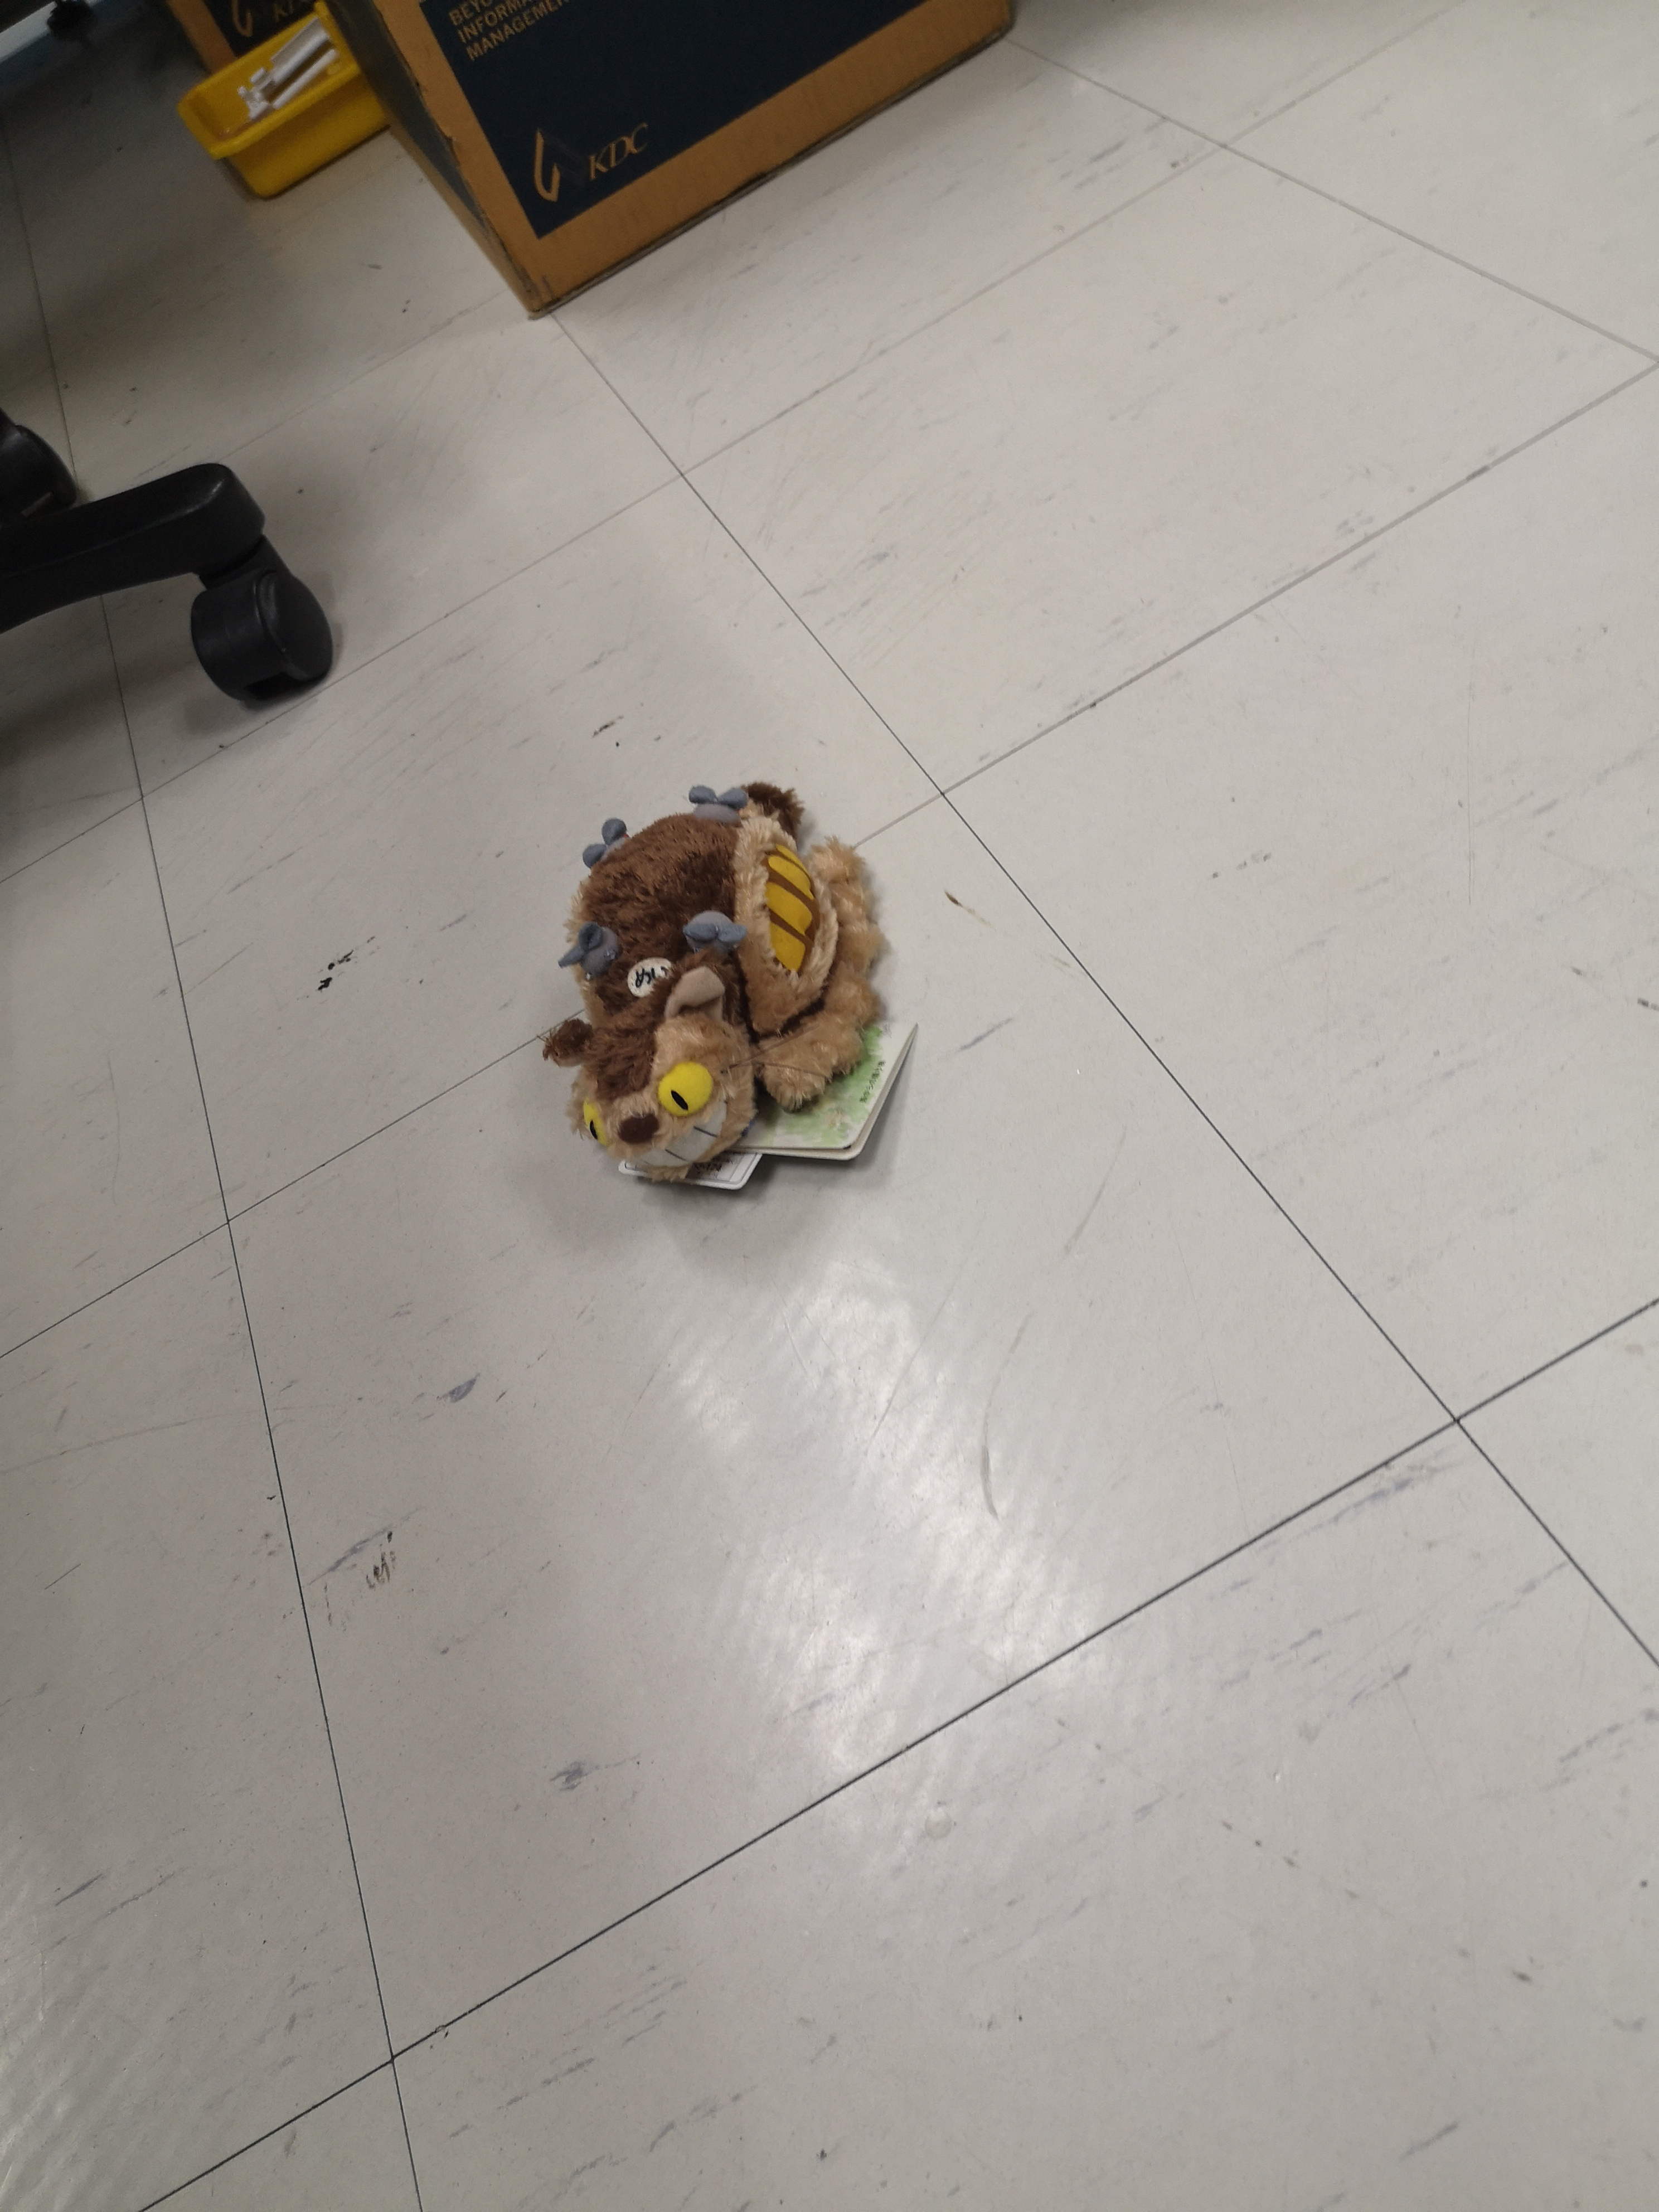nekobus: (530, 768, 920, 1205)
